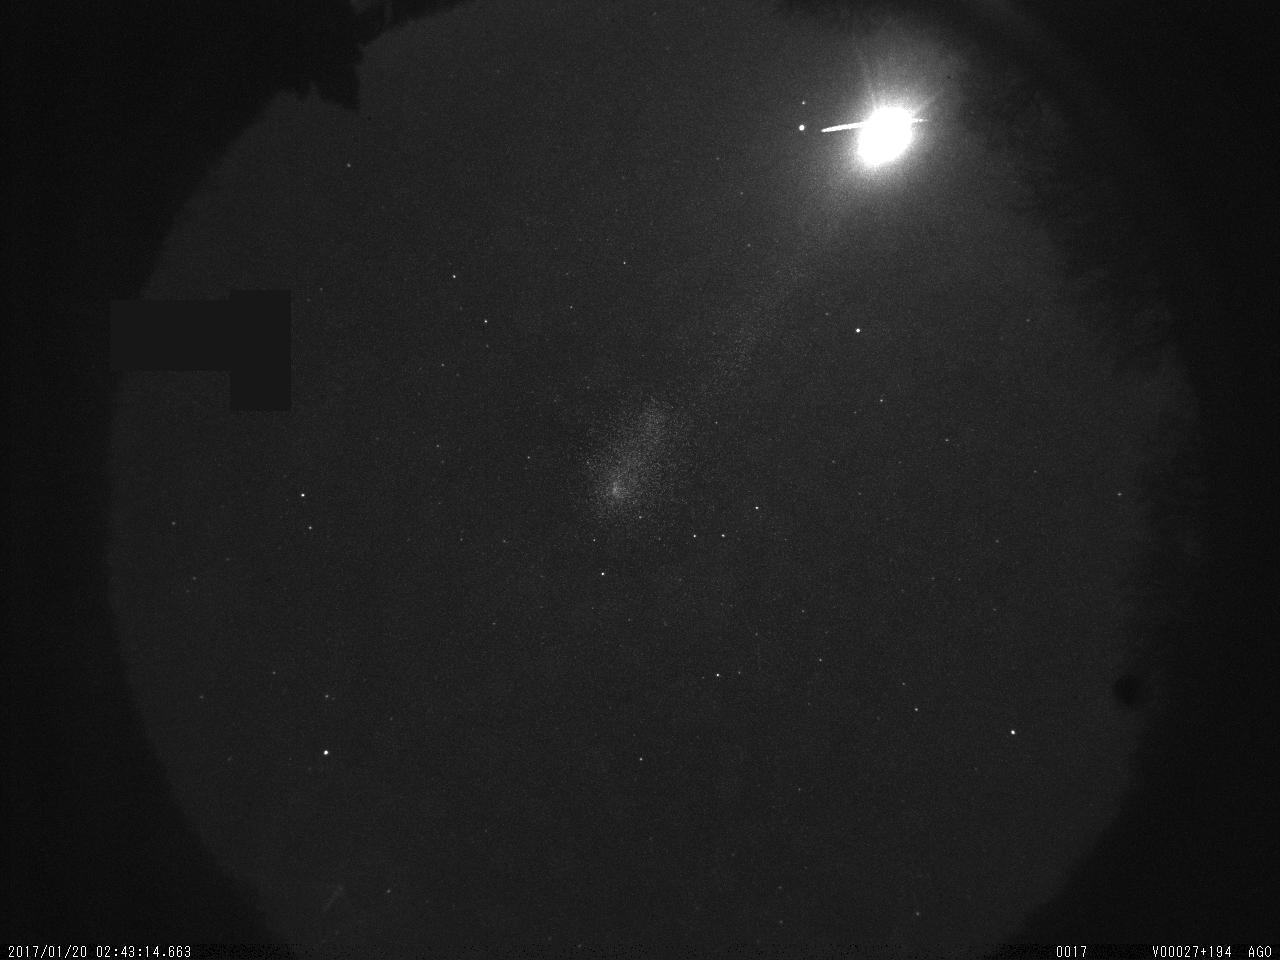Meteor: (814, 101, 944, 143)
